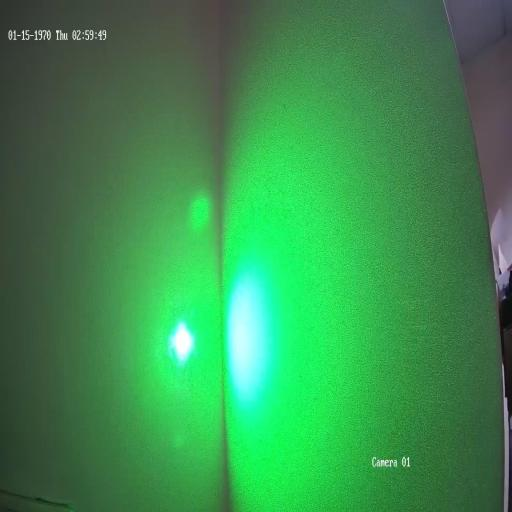laser: (166, 306, 197, 372)
